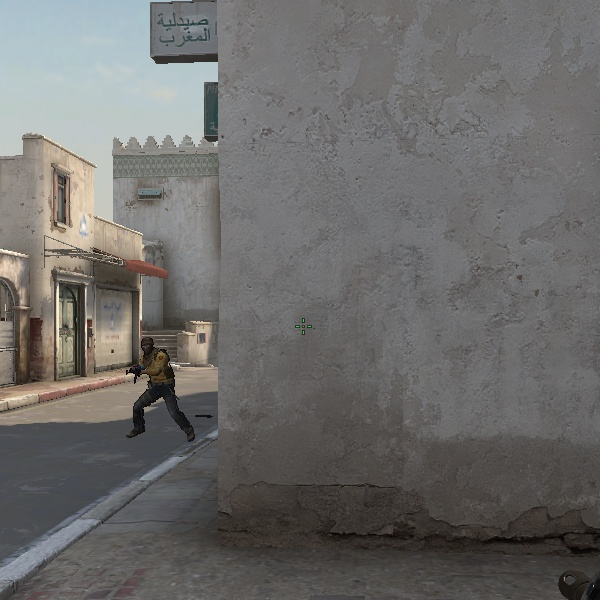t_body: (120, 333, 190, 441)
t_head: (140, 336, 156, 355)
